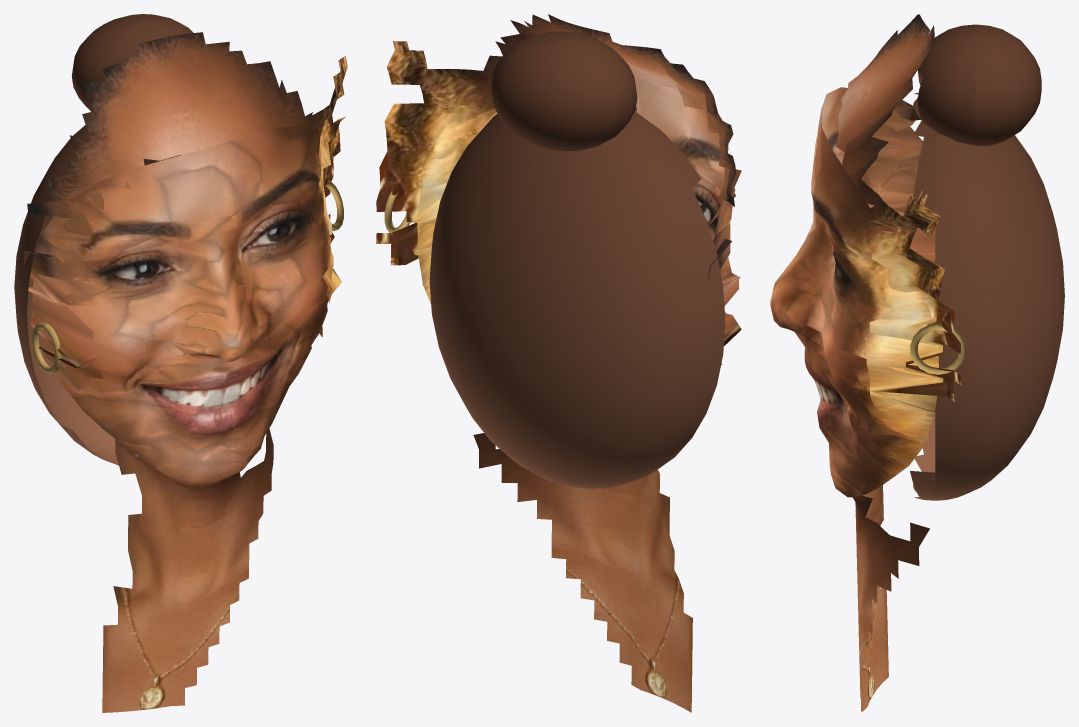
File: amara-portrait.glb
3 renders of one model, left to right at view 1: azimuth 30°, elevation 25°; view 2: azimuth 150°, elevation 25°; view 3: azimuth 270°, elevation 25°, orthographic. The views are drawn at different scales.
Visible parts, largest first — view 1: AmaraFace, AmaraPhotoShell, AmaraVolume, AmaraEarrings; view 2: AmaraVolume, AmaraPhotoShell, AmaraFace; view 3: AmaraVolume, AmaraFace, AmaraPhotoShell, AmaraEarrings.
Boxes of the visible parts, box(x1,y1,x2,y2) form: AmaraFace: box(33, 125, 332, 484); AmaraPhotoShell: box(23, 32, 347, 712); AmaraVolume: box(14, 14, 193, 465); AmaraEarrings: box(32, 180, 343, 373); AmaraVolume: box(429, 31, 725, 488); AmaraPhotoShell: box(376, 14, 741, 712); AmaraFace: box(417, 78, 735, 313); AmaraVolume: box(910, 24, 1064, 500); AmaraFace: box(770, 87, 939, 497); AmaraPhotoShell: box(836, 14, 961, 712); AmaraEarrings: box(910, 323, 966, 374).
Size of the model in its own units: 0.1758 by 0.3384 by 0.1321.
Materials: 3 (1 with a texture image).
